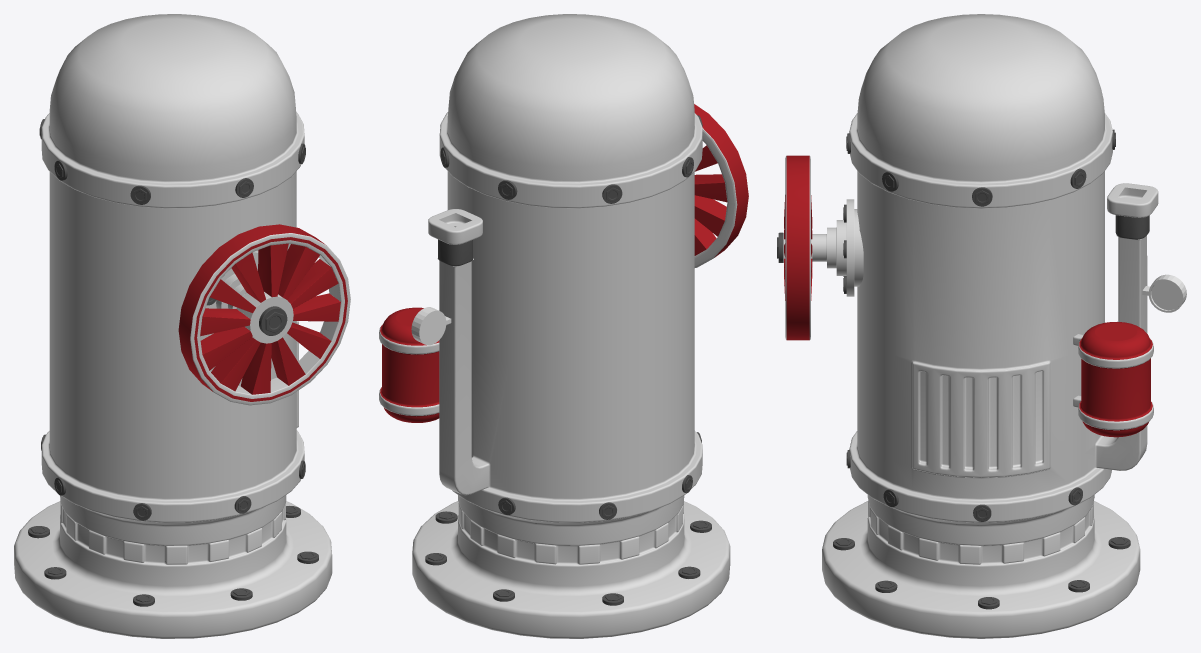
The model's file is steampunk_boillerr2.fbx.
The picture shows the model from 3 angles, left to right: view 1: azimuth 30°, elevation 25°; view 2: azimuth 150°, elevation 25°; view 3: azimuth 270°, elevation 25°; orthographic projection.
Parts seen in each view (by area): view 1: Circle, Cylinder.004, Cylinder.001, Cylinder.008, Cylinder.009, Cylinder.006; view 2: Circle, Cylinder.004, Cylinder, Cylinder.001, Cylinder.002, Cylinder.008, Cylinder.009; view 3: Circle, Cylinder, Cylinder.004, Cylinder.001, Cylinder.008, Cylinder.009, Cylinder.003.
Part boxes in pixels (left/top/right/bottom): Circle: left=14, top=14, right=332, bottom=638; Cylinder.004: left=178, top=224, right=350, bottom=405; Cylinder.001: left=28, top=506, right=318, bottom=606; Cylinder.008: left=39, top=119, right=305, bottom=204; Cylinder.009: left=41, top=434, right=305, bottom=520; Cylinder.006: left=259, top=306, right=287, bottom=335; Circle: left=412, top=14, right=730, bottom=638; Cylinder.004: left=694, top=104, right=748, bottom=267; Cylinder: left=379, top=307, right=439, bottom=422; Cylinder.001: left=425, top=511, right=711, bottom=605; Cylinder.002: left=411, top=307, right=451, bottom=345; Cylinder.008: left=440, top=115, right=702, bottom=203; Cylinder.009: left=498, top=432, right=701, bottom=519; Circle: left=822, top=14, right=1158, bottom=638; Cylinder: left=1073, top=321, right=1153, bottom=437; Cylinder.004: left=784, top=155, right=863, bottom=340; Cylinder.001: left=833, top=537, right=1130, bottom=609; Cylinder.008: left=846, top=129, right=1115, bottom=206; Cylinder.009: left=846, top=450, right=1082, bottom=521; Cylinder.003: left=1151, top=281, right=1181, bottom=310.
Size of the model in its own units: 281 by 519 by 361.
